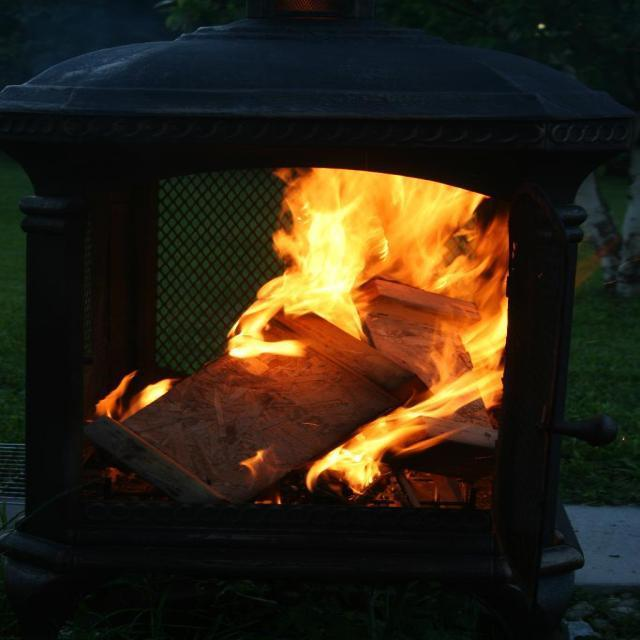Fire: (202, 180, 504, 505)
